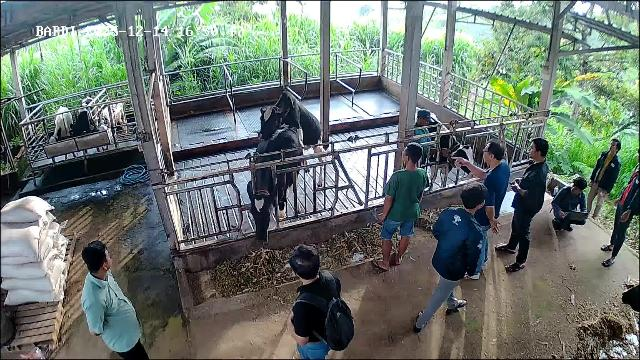mounting: (257, 92, 327, 187)
